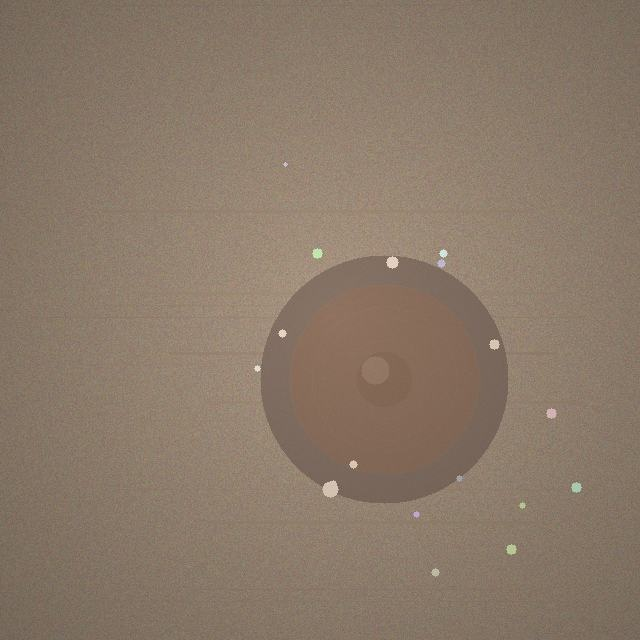overburn: (260, 255, 508, 503)
